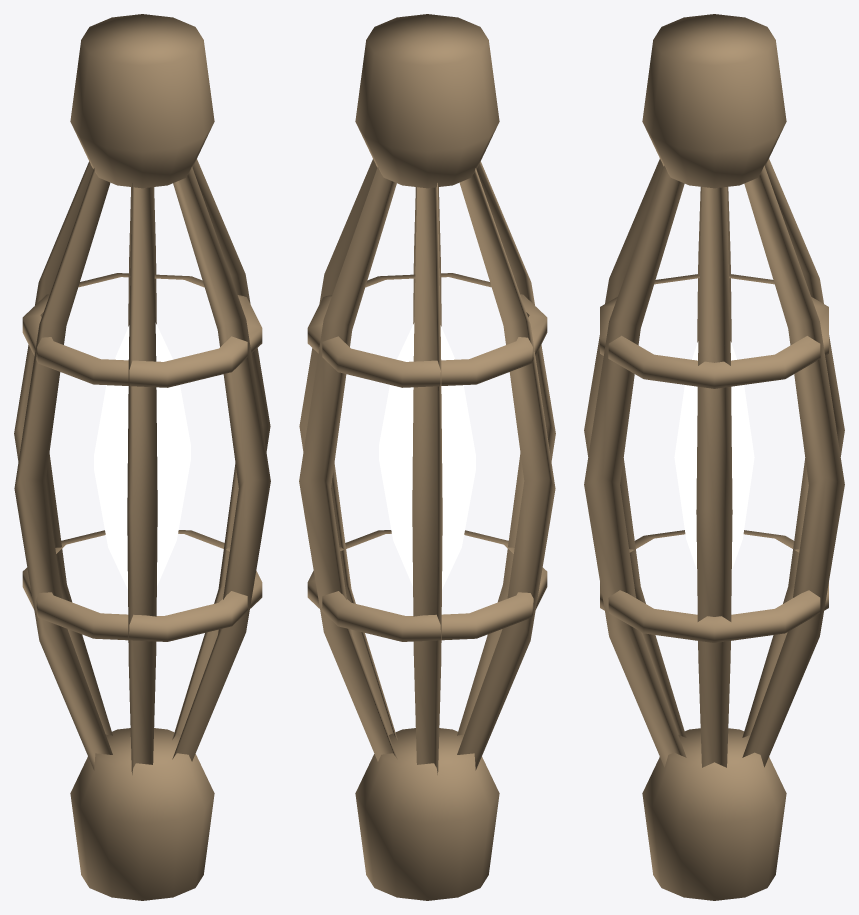
Rendered from interior_basic.glb.
The picture shows the model from 3 angles, left to right: view 1: azimuth 30°, elevation 25°; view 2: azimuth 150°, elevation 25°; view 3: azimuth 270°, elevation 25°; orthographic projection.
Parts seen in each view (by area): view 1: interior_basic; view 2: interior_basic; view 3: interior_basic.
Part boxes in pixels (left/top/right/bottom): interior_basic: left=14, top=14, right=270, bottom=900; interior_basic: left=299, top=14, right=555, bottom=900; interior_basic: left=584, top=14, right=844, bottom=900.
Size of the model in its own units: 0.1476 by 0.46 by 0.1302.
